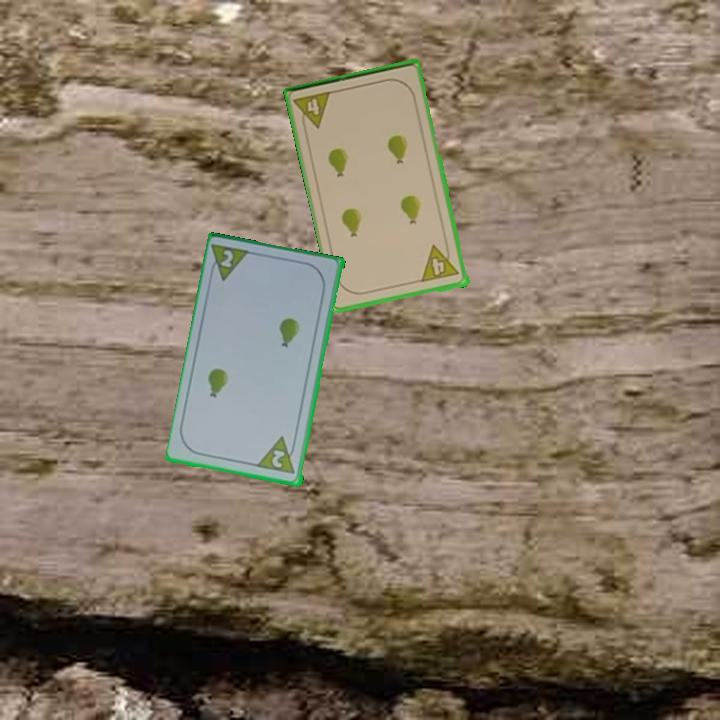2p: (268, 446, 289, 471), (217, 246, 237, 271)
4p: (290, 88, 334, 134), (419, 240, 463, 285)
